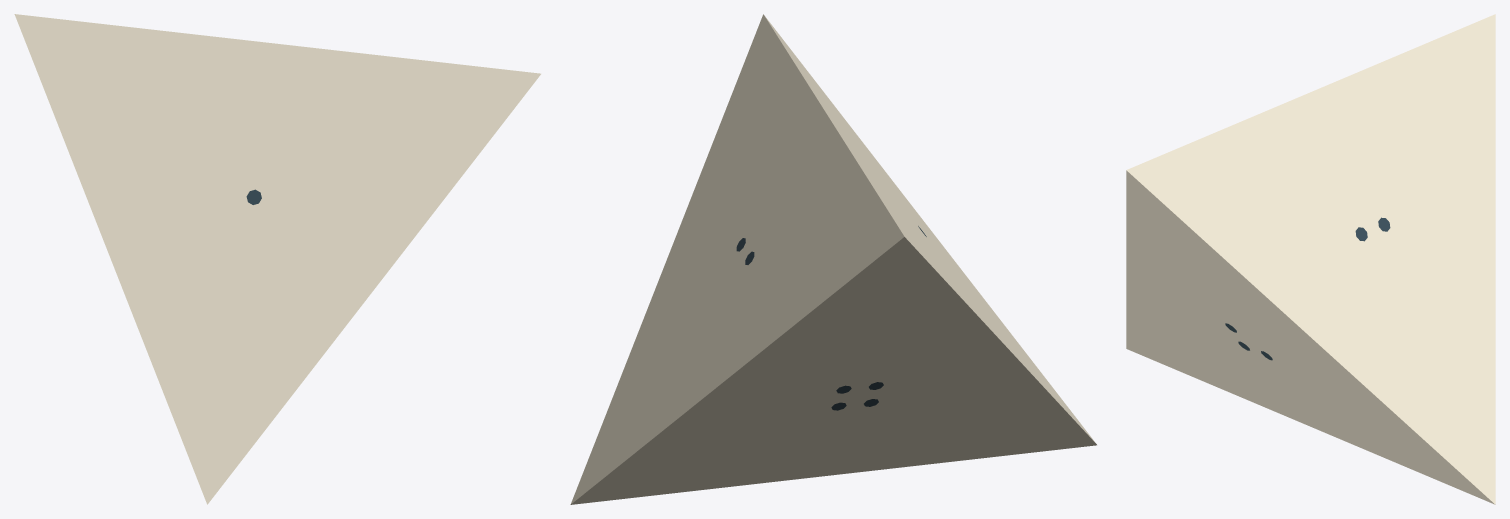
File: tabletop-game-components-d4-tetrahedron-af97e14a__20845.glb
3 renders of one model, left to right at view 1: azimuth 30°, elevation 25°; view 2: azimuth 150°, elevation 25°; view 3: azimuth 270°, elevation 25°, orthographic. The views are drawn at different scales.
Parts seen in each view (by area): view 1: d4-tetrahedron; view 2: d4-tetrahedron; view 3: d4-tetrahedron.
Part boxes in pixels (box(x1,y1,x2,y2)): d4-tetrahedron: box(14, 14, 540, 504); d4-tetrahedron: box(570, 14, 1096, 504); d4-tetrahedron: box(1126, 14, 1495, 504).
Bounding box in the file's own units: 0.0208 × 0.0208 × 0.0208.
